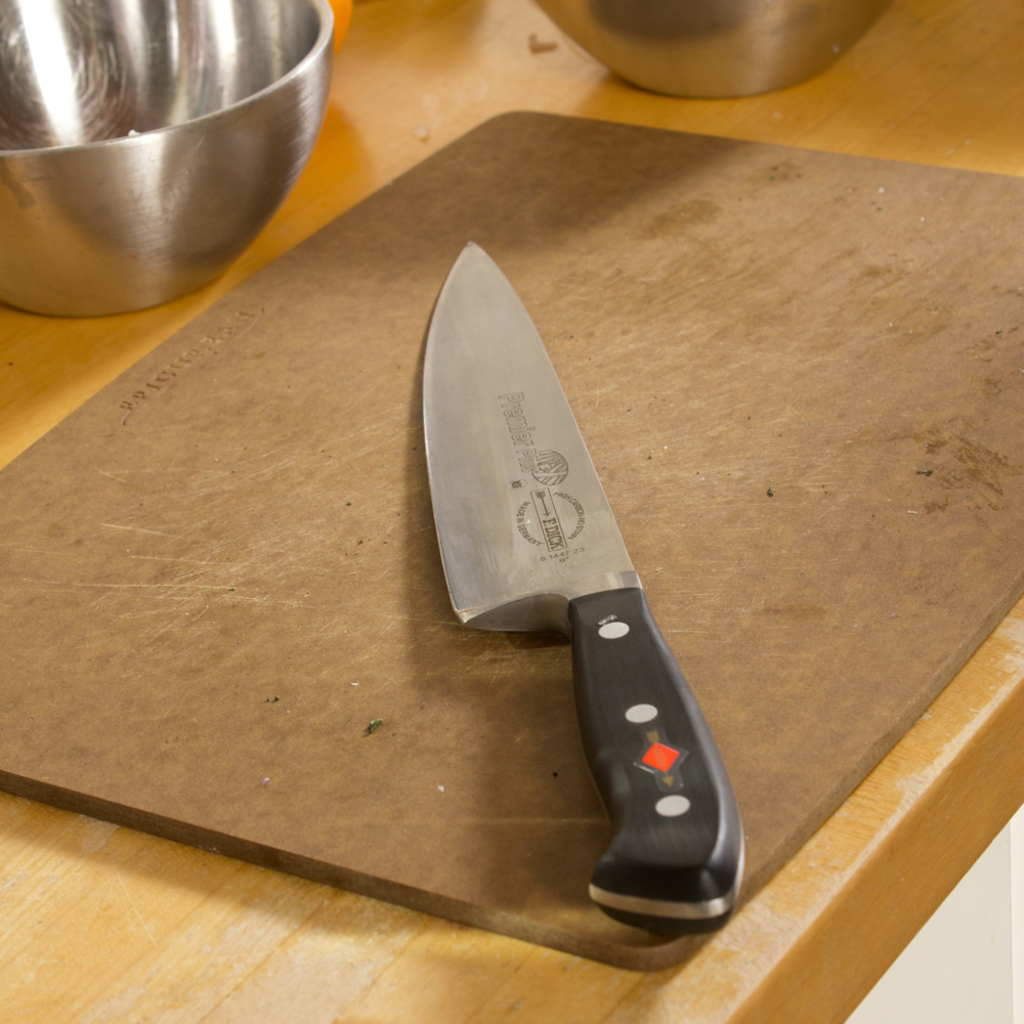kitchen knife: (412, 237, 748, 937)
